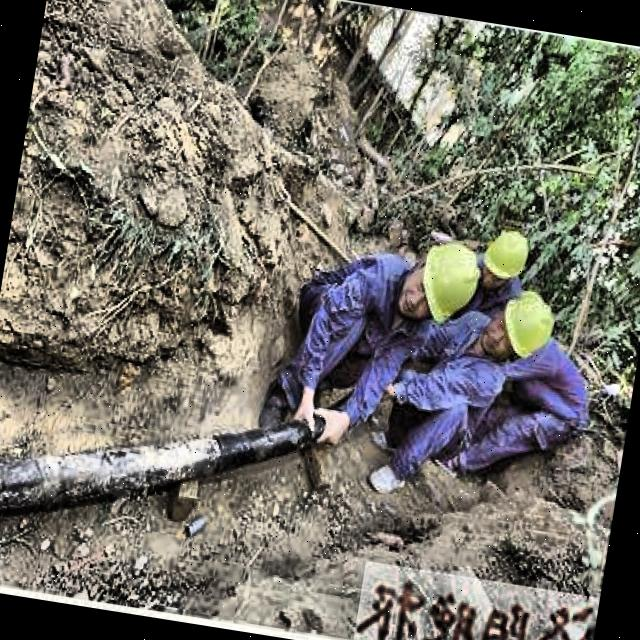helmet: (400, 232, 490, 334), (484, 282, 562, 370), (479, 225, 534, 292)
